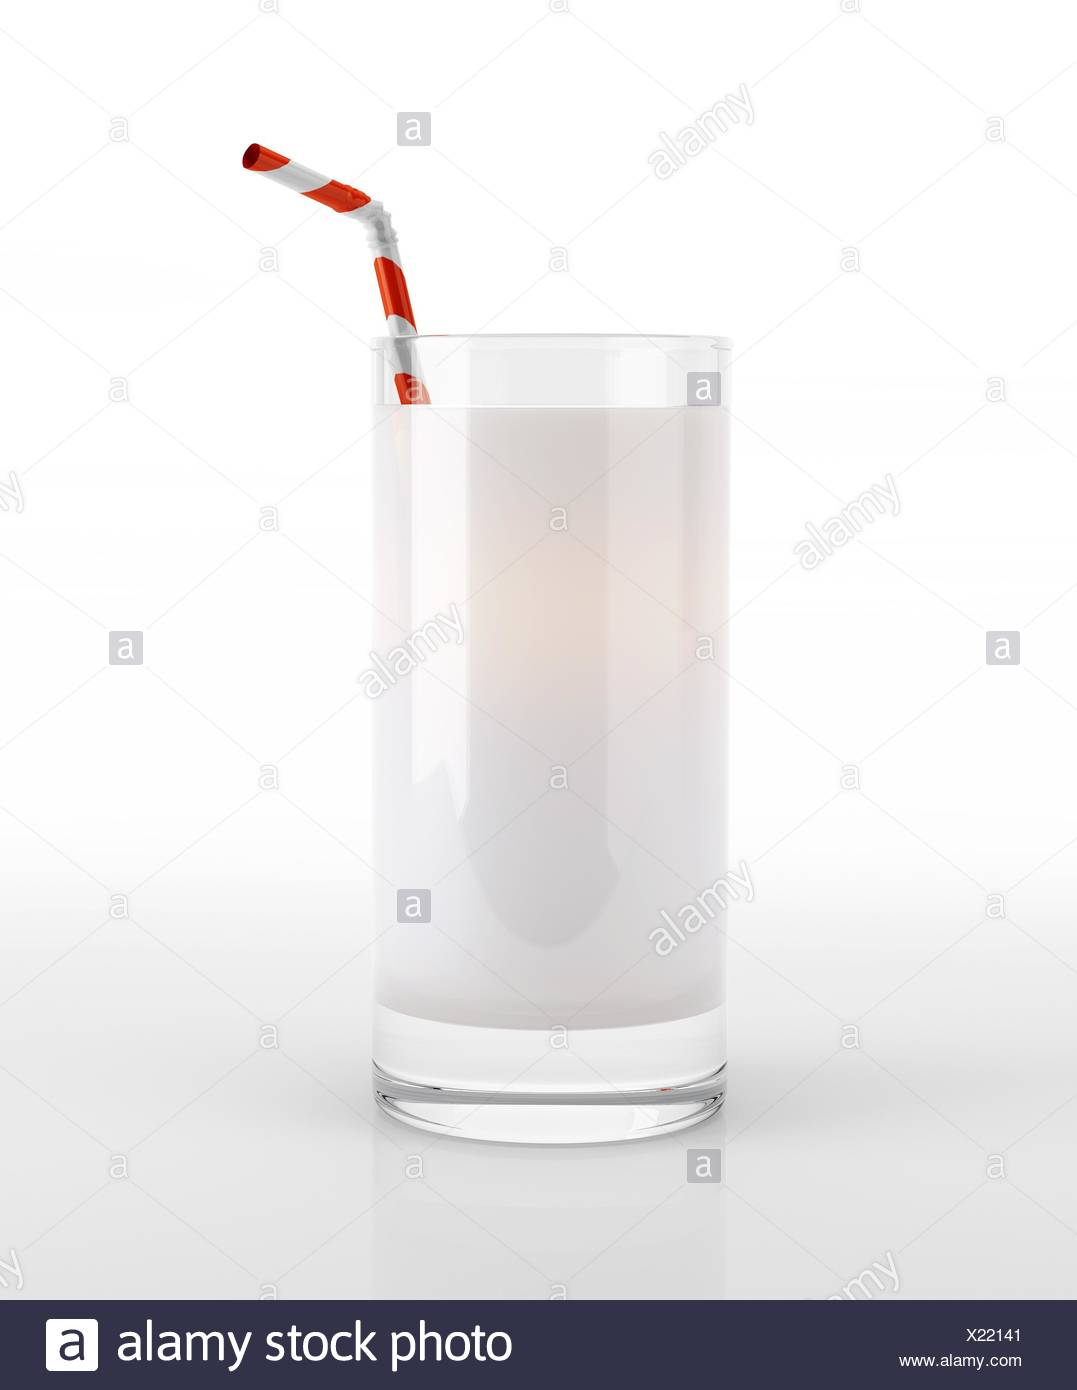glass of milk: (371, 378, 745, 1077)
